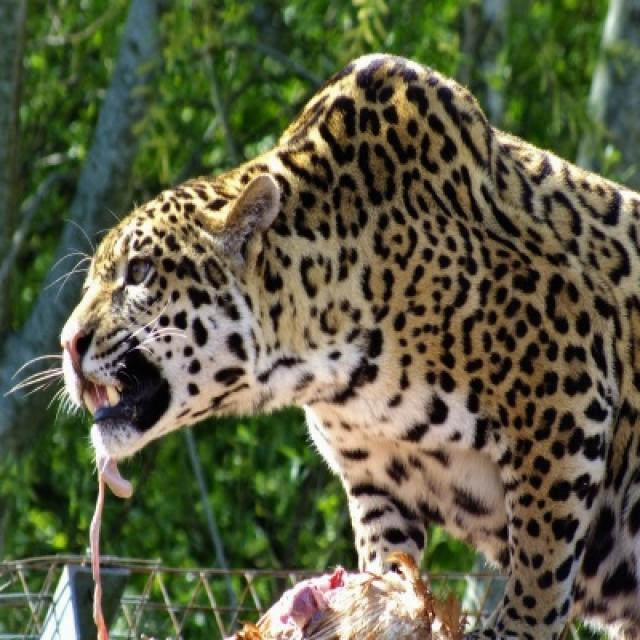Jaguar: (27, 54, 638, 638)
